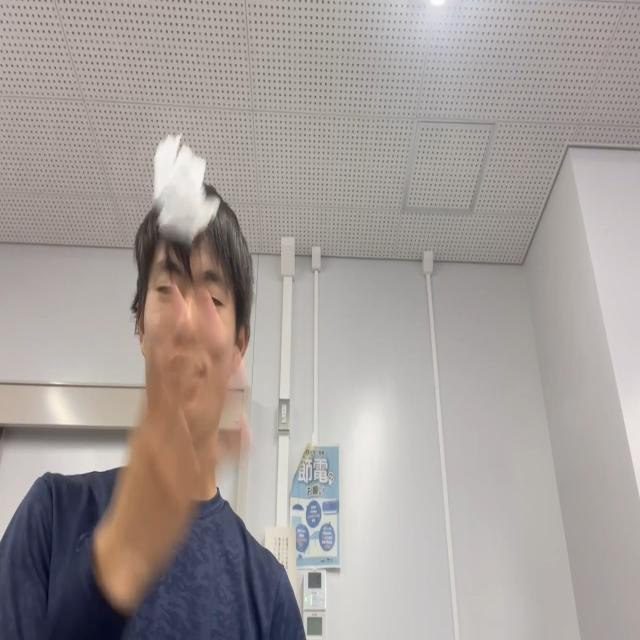paper: (152, 132, 220, 246)
